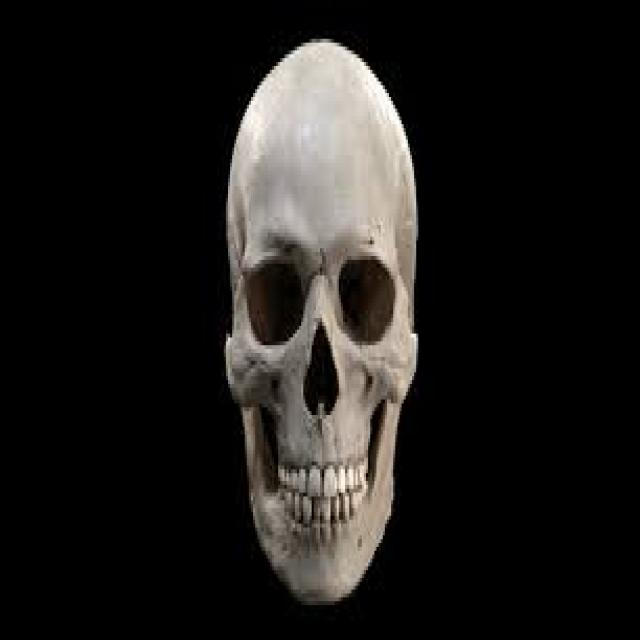skull: (222, 39, 425, 608)
